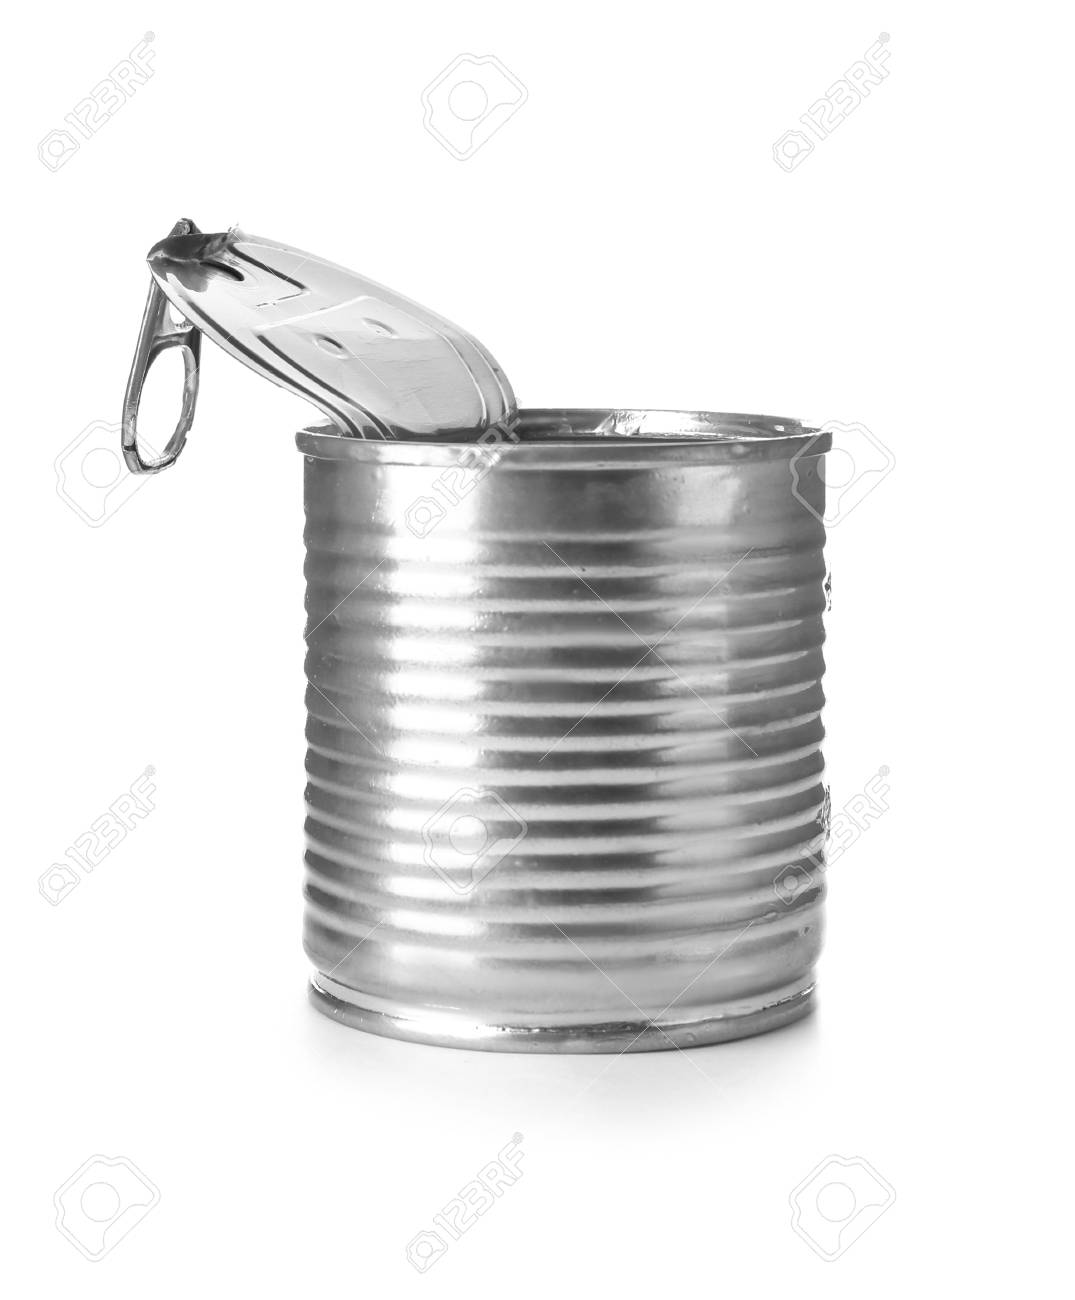metal: (117, 216, 829, 1051)
